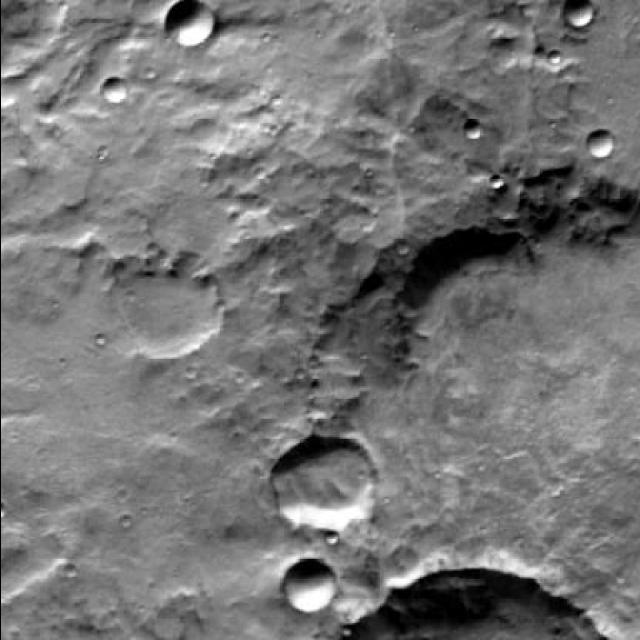crater: (300, 197, 640, 640), (122, 270, 224, 372), (274, 450, 376, 552), (318, 564, 387, 633), (280, 558, 334, 614), (164, 0, 213, 49), (566, 0, 596, 29), (587, 130, 615, 158), (102, 79, 126, 103), (464, 120, 482, 138)
